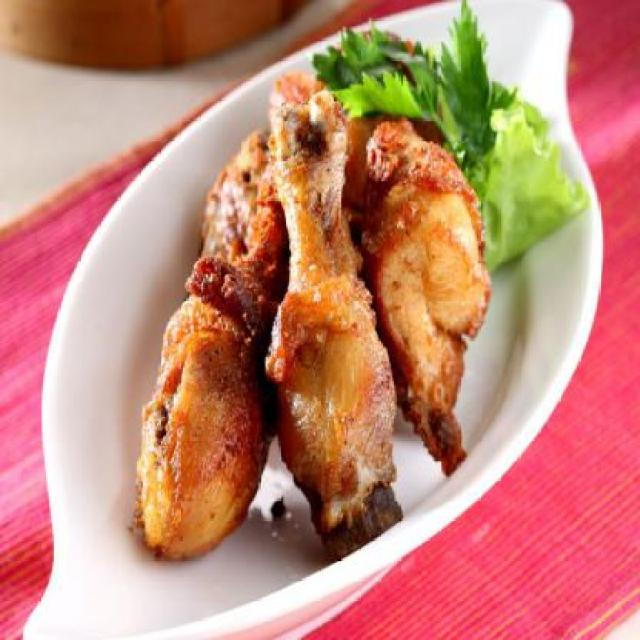Wet Waste: (136, 135, 284, 557), (268, 74, 400, 534), (342, 114, 491, 489)
